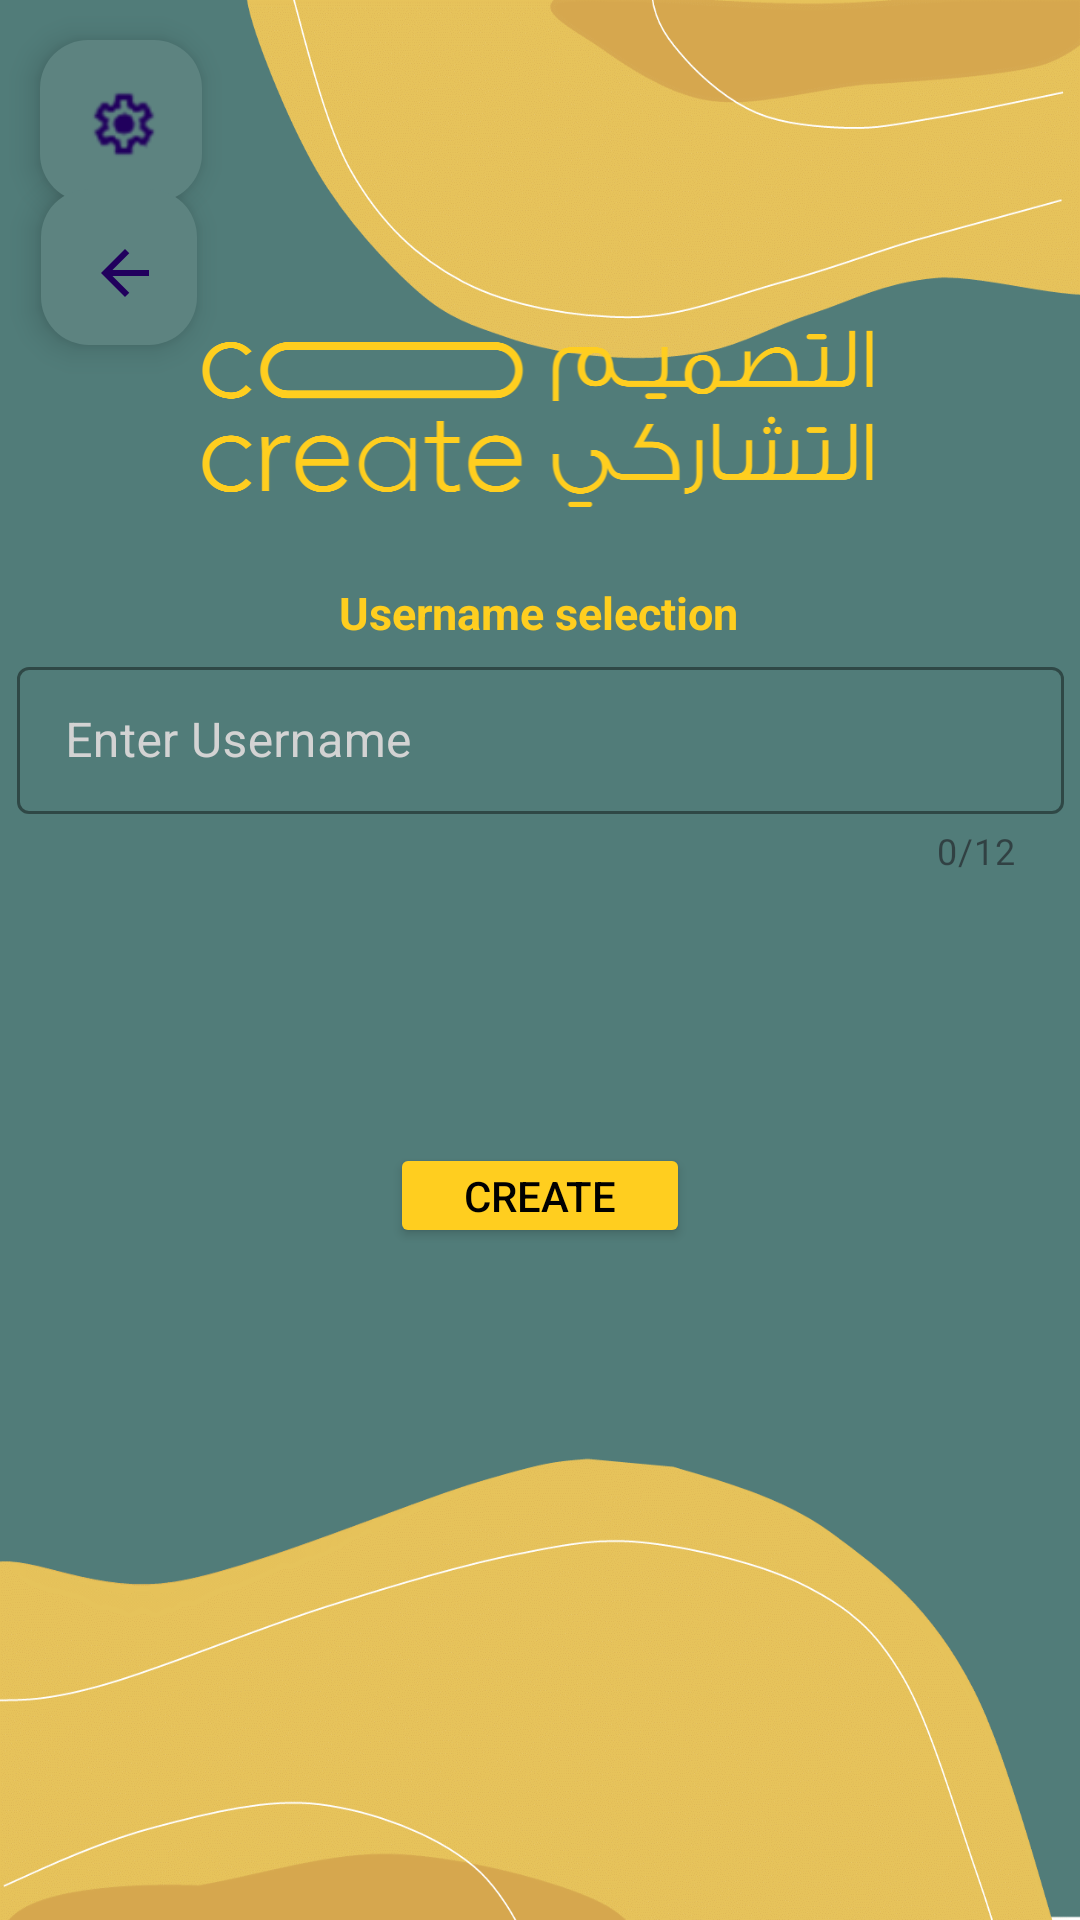

Icon click points for this 1080x1920 phone screenshot, format (x=x, y=y):
arrow back: (x=119, y=267)
settings: (x=124, y=124)
